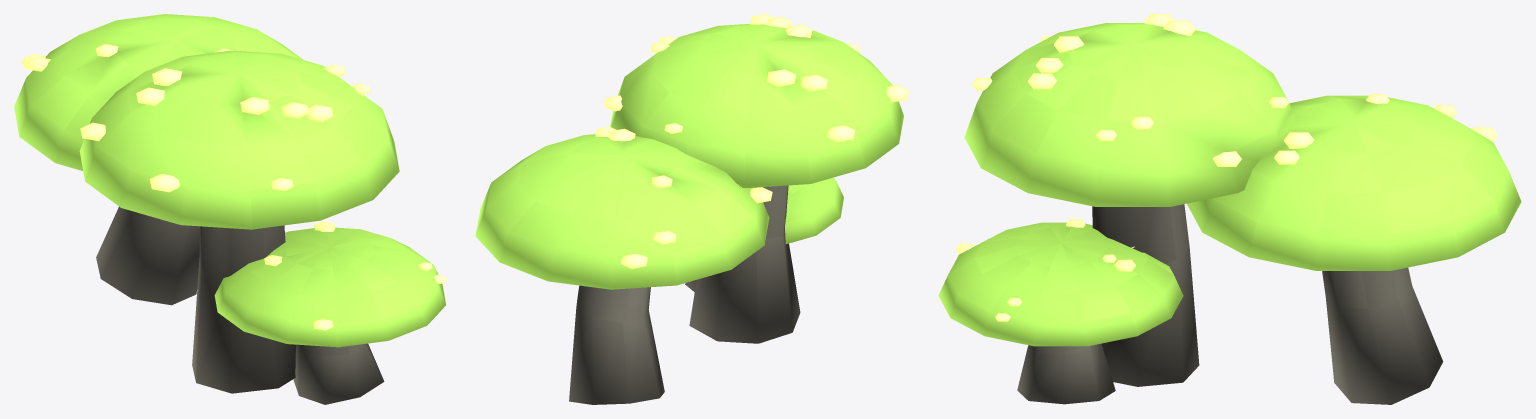
Rendered from obj_oficio_nido.glb.
3 renders of one model, left to right at view 1: azimuth 30°, elevation 25°; view 2: azimuth 150°, elevation 25°; view 3: azimuth 270°, elevation 25°, orthographic. The views are drawn at different scales.
Parts seen in each view (by area): view 1: propforge-libre-oficio_nido; view 2: propforge-libre-oficio_nido; view 3: propforge-libre-oficio_nido.
Part boxes in pixels (x1=…): propforge-libre-oficio_nido: x1=14, y1=14, x2=446, y2=404; propforge-libre-oficio_nido: x1=475, y1=14, x2=909, y2=404; propforge-libre-oficio_nido: x1=938, y1=14, x2=1521, y2=404.
Bounding box in the file's own units: 0.5565 × 0.5343 × 0.8639.
